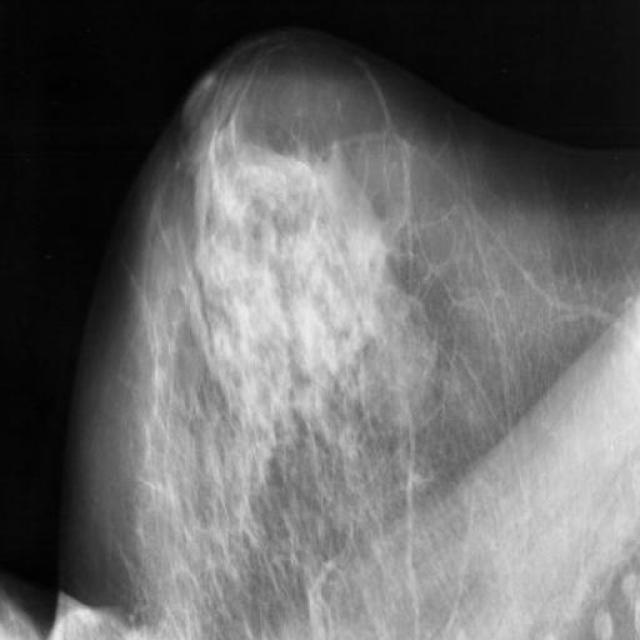cancer: (156, 102, 227, 188)
